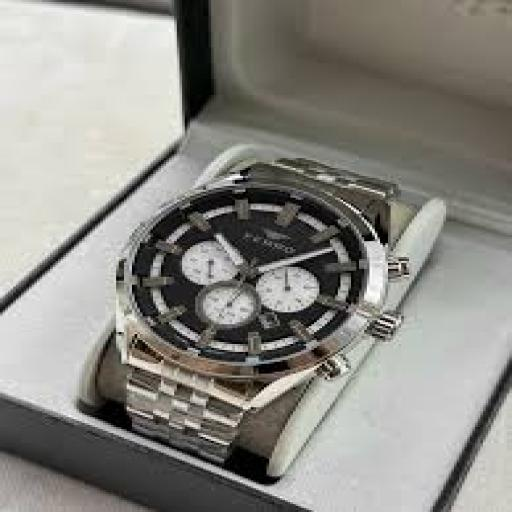KolSaati: (49, 122, 426, 463)
